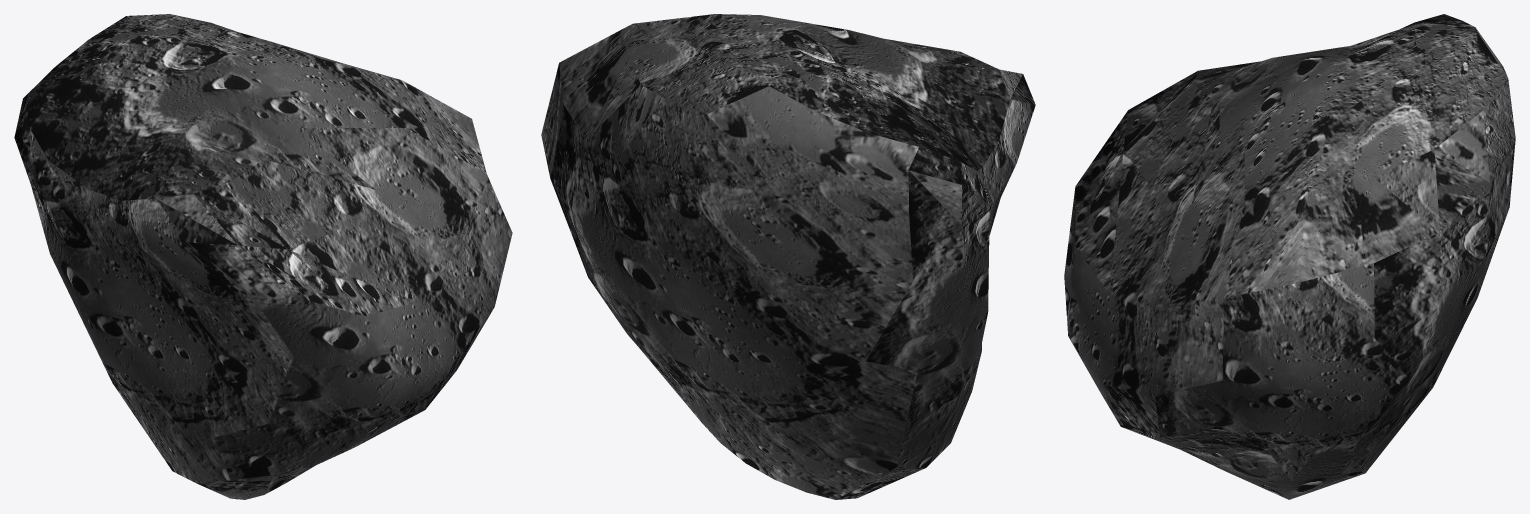
Rendered from meteorito_2.FBX.
The picture shows the model from 3 angles, left to right: view 1: azimuth 30°, elevation 25°; view 2: azimuth 150°, elevation 25°; view 3: azimuth 270°, elevation 25°; orthographic projection. The views are drawn at different scales.
Parts seen in each view (by area): view 1: meteorito_2; view 2: meteorito_2; view 3: meteorito_2.
Part boxes in pixels (left/top/right/bottom): meteorito_2: left=14, top=14, right=512, bottom=499; meteorito_2: left=541, top=14, right=1035, bottom=499; meteorito_2: left=1064, top=14, right=1515, bottom=499.
Size of the model in its own units: 87.35 by 83.4 by 77.11.
